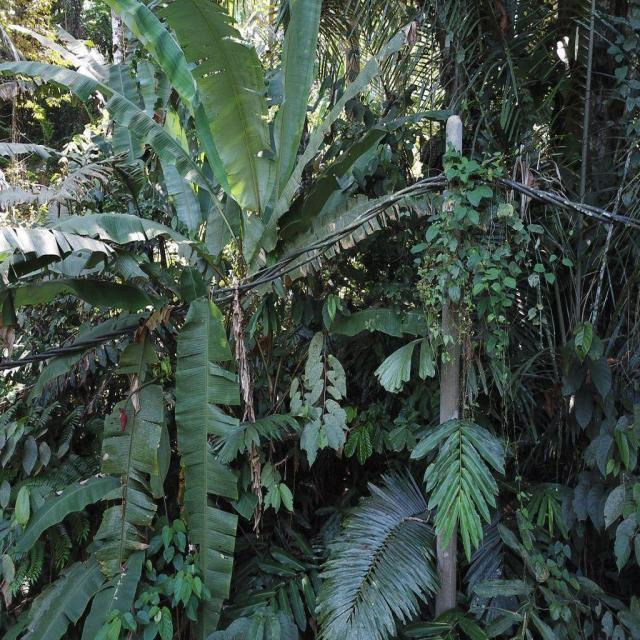critical vegetation: (412, 138, 542, 360)
